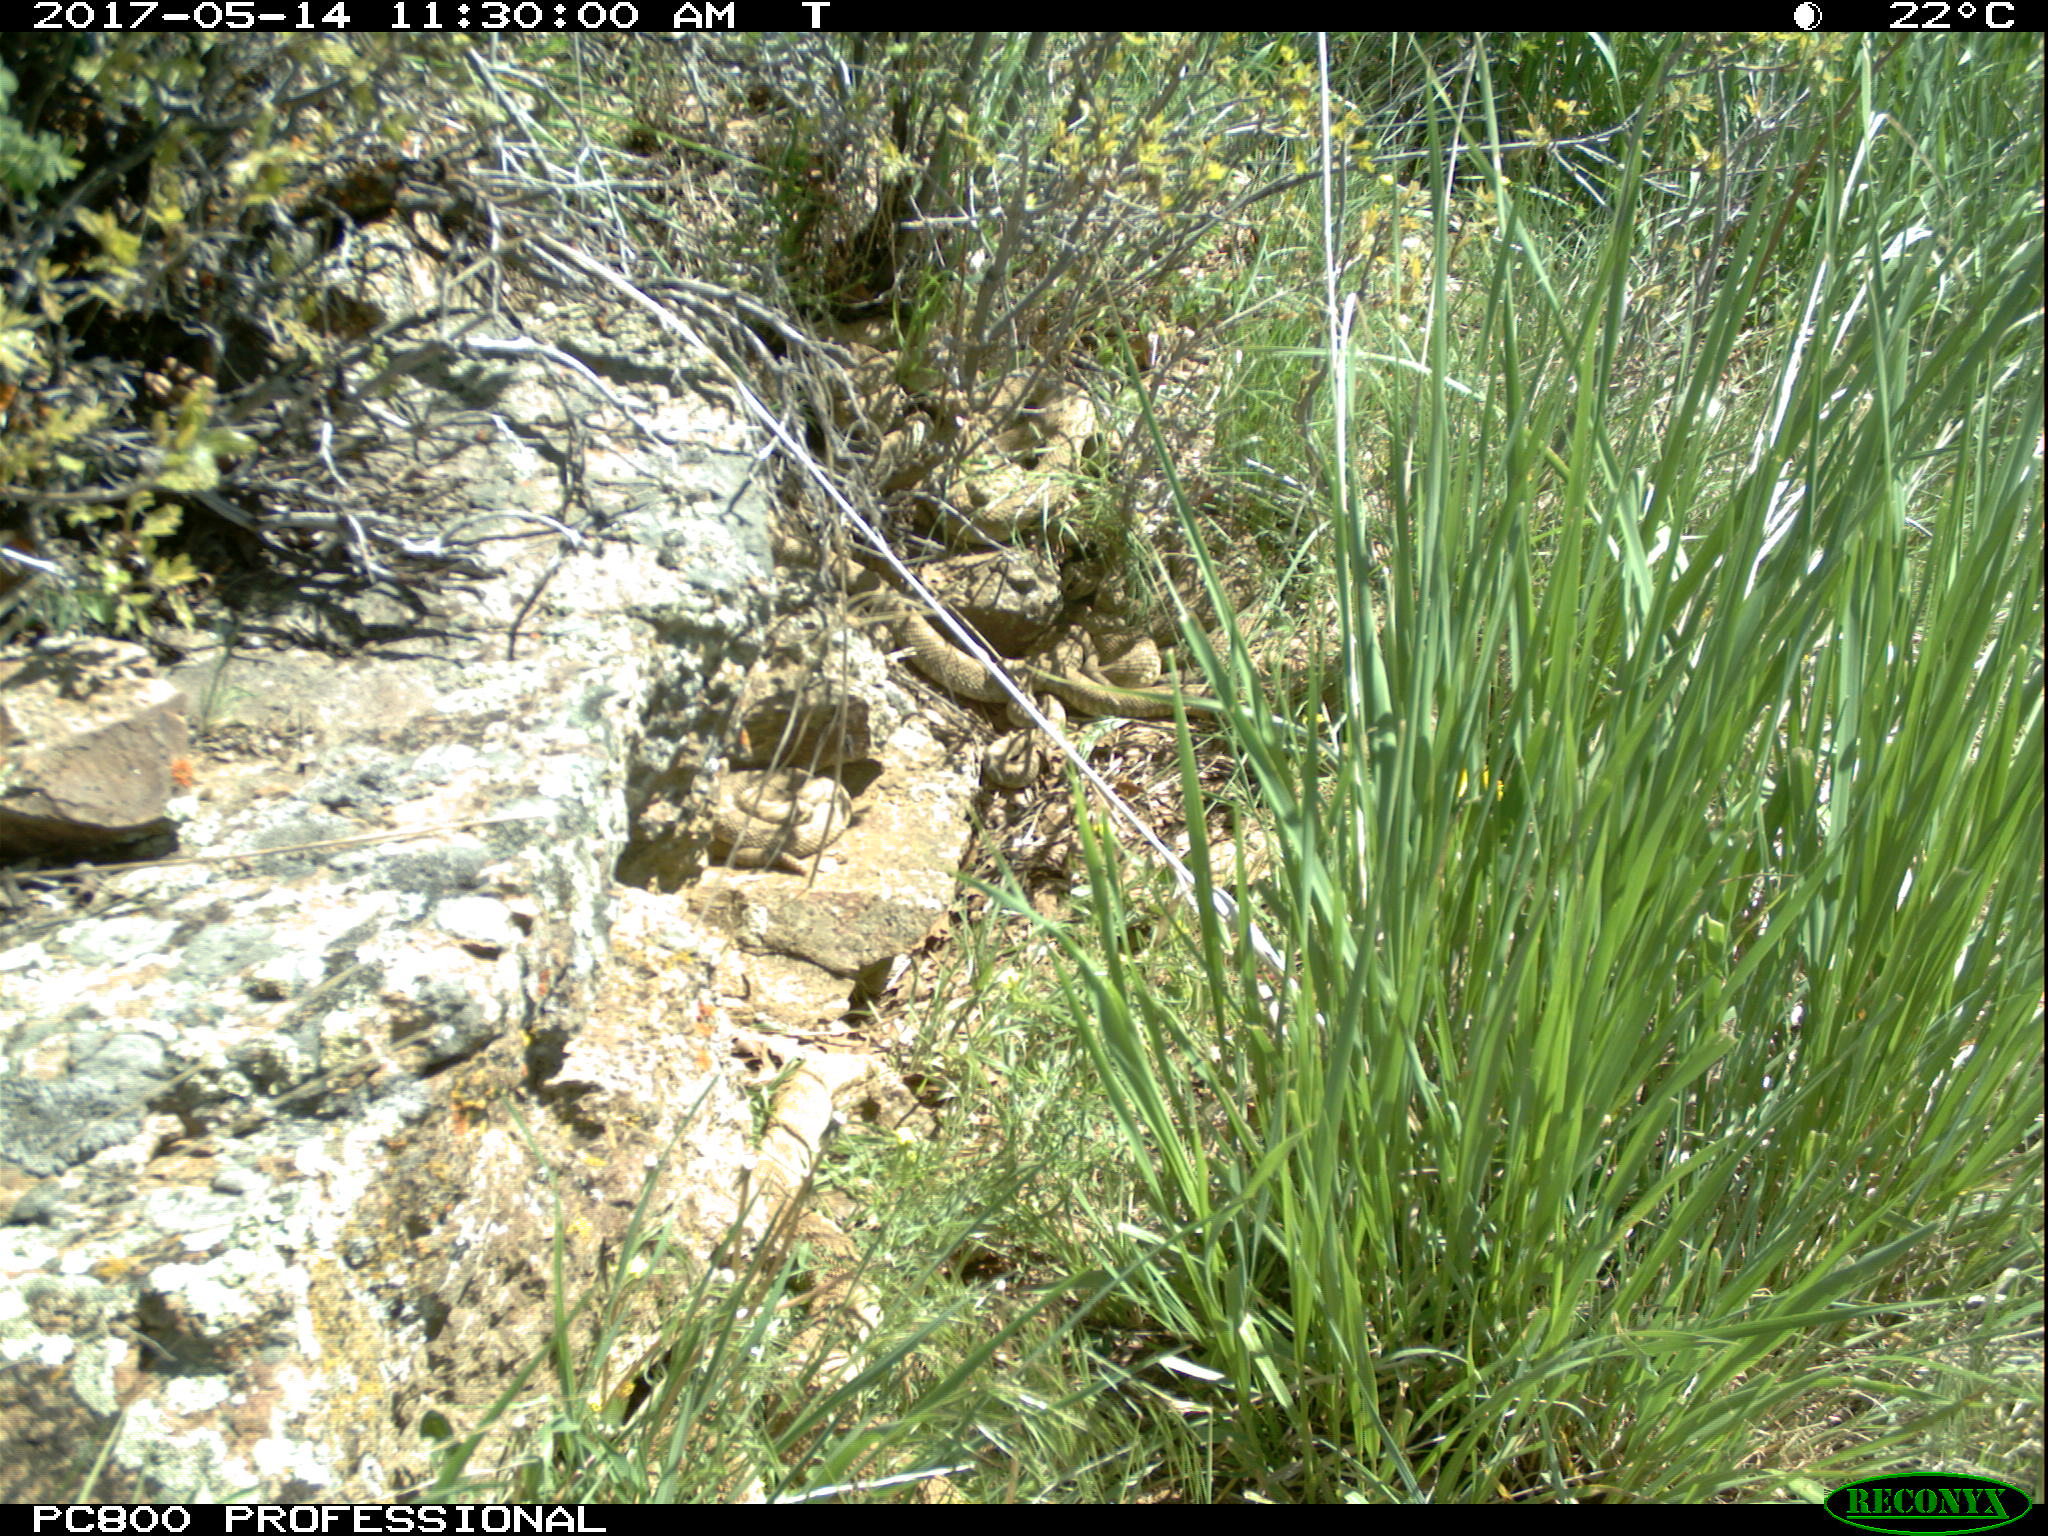snake: (748, 1049, 885, 1399), (929, 366, 1097, 549), (808, 316, 934, 473), (700, 763, 860, 863), (763, 528, 913, 628), (1030, 607, 1164, 716), (972, 716, 1050, 791), (897, 611, 955, 686)
